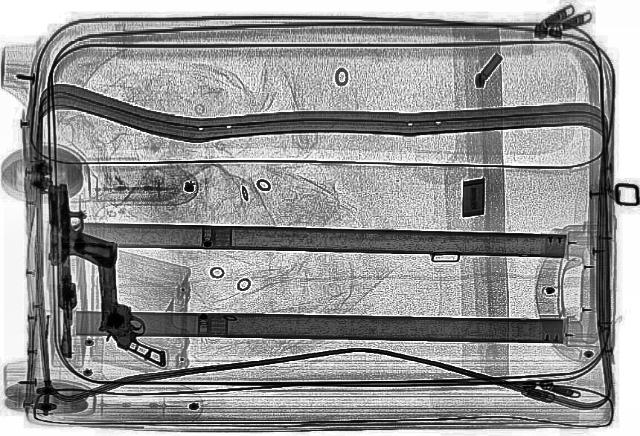Gun: (24, 184, 92, 354), (89, 239, 173, 367), (36, 183, 114, 266)
